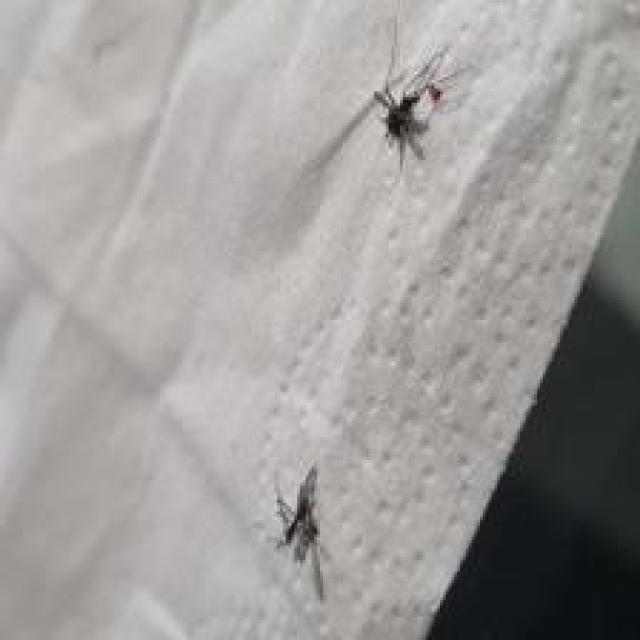Aedes albopictus: (309, 14, 474, 180)
